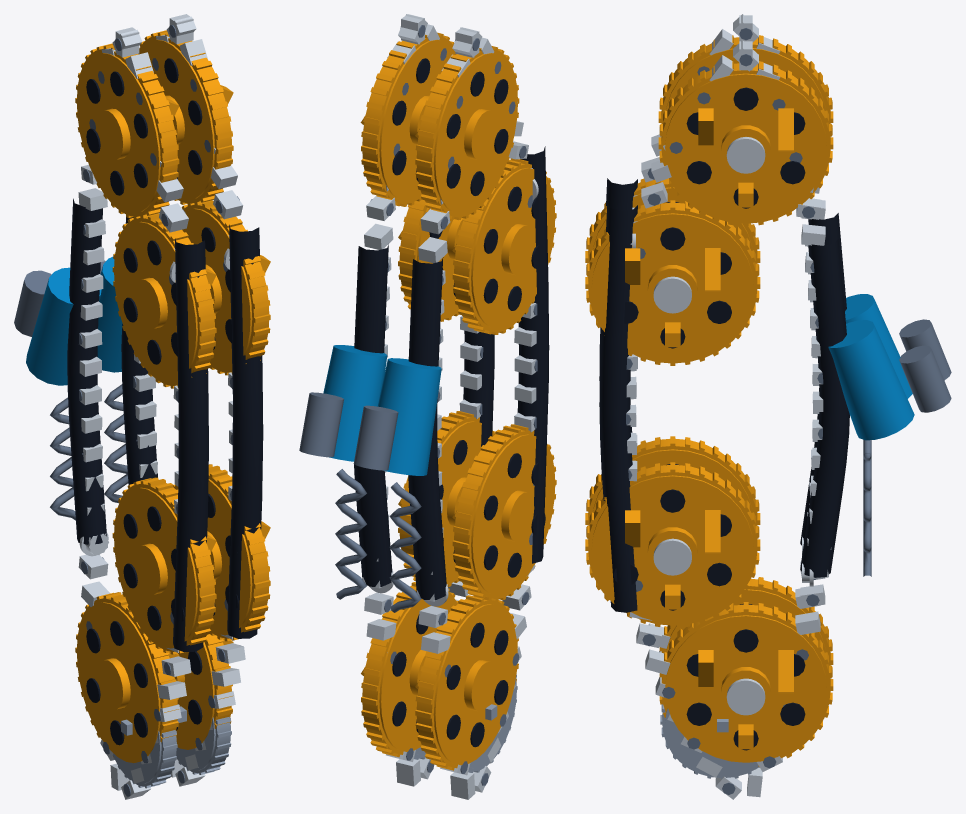
File: timing-chain.glb
3 renders of one model, left to right at view 1: azimuth 30°, elevation 25°; view 2: azimuth 150°, elevation 25°; view 3: azimuth 270°, elevation 25°, orthographic.
Visible parts, largest first — view 1: Fixed_Guide_Rail_Blade_Front, Fixed_Guide_Rail_Blade_Rear, SlackSide_Tensioner_Shoe_Front, Cam_Gear_Bank1_Intake_Front_Plane, Cam_Gear_Bank2_Intake_Front_Plane, Cam_Gear_Bank2_Exhaust_Front_Plane, Cam_Gear_Bank1_Exhaust_Front_Plane, Cam_Gear_Bank1_Intake_Rear_Plane, Hydraulic_Tensioner_Body_Front, Cam_Gear_Bank1_Exhaust_Rear_Plane, Cam_Gear_Bank2_Exhaust_Front_Plane_ToothRing, Cam_Gear_Bank1_Intake_Front_Plane_ToothRing (+27 smaller); view 2: SlackSide_Tensioner_Shoe_Front, Cam_Gear_Bank1_Intake_Front_Plane, Cam_Gear_Bank2_Intake_Front_Plane, SlackSide_Tensioner_Shoe_Rear, Cam_Gear_Bank2_Exhaust_Front_Plane, Cam_Gear_Bank1_Exhaust_Front_Plane, Fixed_Guide_Rail_Blade_Front, Hydraulic_Tensioner_Body_Front, Cam_Gear_Bank1_Intake_Rear_Plane, Hydraulic_Tensioner_Body_Rear, Cam_Gear_Bank2_Intake_Rear_Plane, Cam_Gear_Bank2_Exhaust_Front_Plane_ToothRing (+28 smaller); view 3: Cam_Gear_Bank1_Intake_Rear_Plane, Cam_Gear_Bank2_Intake_Rear_Plane, Cam_Gear_Bank2_Exhaust_Rear_Plane, Cam_Gear_Bank1_Exhaust_Rear_Plane, Fixed_Guide_Rail_Blade_Rear, SlackSide_Tensioner_Shoe_Rear, Hydraulic_Tensioner_Body_Rear, Cam_Gear_Bank2_Exhaust_Rear_Plane_ToothRing, Cam_Gear_Bank1_Intake_Rear_Plane_ToothRing, Cam_Gear_Bank1_Exhaust_Rear_Plane_ToothRing, Cam_Gear_Bank2_Intake_Rear_Plane_ToothRing, Tensioner_Plunger_Piston_Rear (+25 smaller).
Boxes of the visible parts, left/top/right/bottom form: Fixed_Guide_Rail_Blade_Front: left=173, top=238, right=208, bottom=652; Fixed_Guide_Rail_Blade_Rear: left=227, top=224, right=263, bottom=638; SlackSide_Tensioner_Shoe_Front: left=67, top=198, right=106, bottom=544; Cam_Gear_Bank1_Intake_Front_Plane: left=77, top=53, right=160, bottom=213; Cam_Gear_Bank2_Intake_Front_Plane: left=77, top=602, right=160, bottom=763; Cam_Gear_Bank2_Exhaust_Front_Plane: left=114, top=487, right=197, bottom=648; Cam_Gear_Bank1_Exhaust_Front_Plane: left=114, top=221, right=197, bottom=382; Cam_Gear_Bank1_Intake_Rear_Plane: left=138, top=39, right=214, bottom=200; Hydraulic_Tensioner_Body_Front: left=26, top=267, right=101, bottom=385; Cam_Gear_Bank1_Exhaust_Rear_Plane: left=182, top=208, right=252, bottom=369; Cam_Gear_Bank2_Exhaust_Front_Plane_ToothRing: left=112, top=477, right=216, bottom=654; Cam_Gear_Bank1_Intake_Front_Plane_ToothRing: left=75, top=43, right=179, bottom=219; SlackSide_Tensioner_Shoe_Front: left=408, top=257, right=446, bottom=600; Cam_Gear_Bank1_Intake_Front_Plane: left=433, top=53, right=517, bottom=213; Cam_Gear_Bank2_Intake_Front_Plane: left=433, top=604, right=517, bottom=765; SlackSide_Tensioner_Shoe_Rear: left=354, top=244, right=392, bottom=586; Cam_Gear_Bank2_Exhaust_Front_Plane: left=471, top=434, right=554, bottom=595; Cam_Gear_Bank1_Exhaust_Front_Plane: left=471, top=167, right=554, bottom=328; Fixed_Guide_Rail_Blade_Front: left=517, top=146, right=549, bottom=563; Hydraulic_Tensioner_Body_Front: left=377, top=358, right=441, bottom=475; Cam_Gear_Bank1_Intake_Rear_Plane: left=379, top=39, right=456, bottom=200; Hydraulic_Tensioner_Body_Rear: left=323, top=345, right=387, bottom=461; Cam_Gear_Bank2_Intake_Rear_Plane: left=379, top=595, right=456, bottom=751; Cam_Gear_Bank2_Exhaust_Front_Plane_ToothRing: left=452, top=424, right=556, bottom=601; Cam_Gear_Bank1_Intake_Rear_Plane: left=665, top=73, right=826, bottom=220; Cam_Gear_Bank2_Intake_Rear_Plane: left=665, top=615, right=826, bottom=762; Cam_Gear_Bank2_Exhaust_Rear_Plane: left=591, top=475, right=753, bottom=622; Cam_Gear_Bank1_Exhaust_Rear_Plane: left=591, top=213, right=753, bottom=360; Fixed_Guide_Rail_Blade_Rear: left=599, top=204, right=637, bottom=612; SlackSide_Tensioner_Shoe_Rear: left=800, top=239, right=849, bottom=577; Hydraulic_Tensioner_Body_Rear: left=828, top=320, right=914, bottom=440; Cam_Gear_Bank2_Exhaust_Rear_Plane_ToothRing: left=585, top=462, right=760, bottom=627; Cam_Gear_Bank1_Intake_Rear_Plane_ToothRing: left=658, top=61, right=833, bottom=225; Cam_Gear_Bank1_Exhaust_Rear_Plane_ToothRing: left=585, top=200, right=760, bottom=365; Cam_Gear_Bank2_Intake_Rear_Plane_ToothRing: left=659, top=602, right=833, bottom=766; Tensioner_Plunger_Piston_Rear: left=899, top=345, right=951, bottom=412.
Bounding box in the file's own units: 0.067 × 0.4302 × 0.1899.
